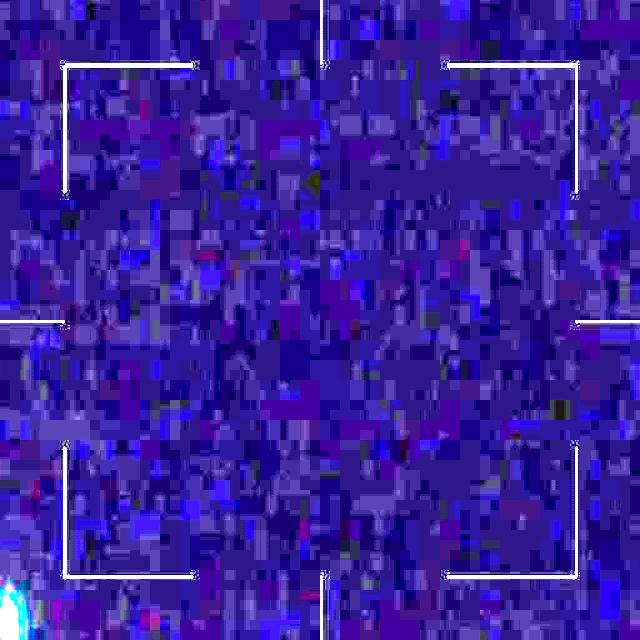bird: (0, 586, 24, 640)
